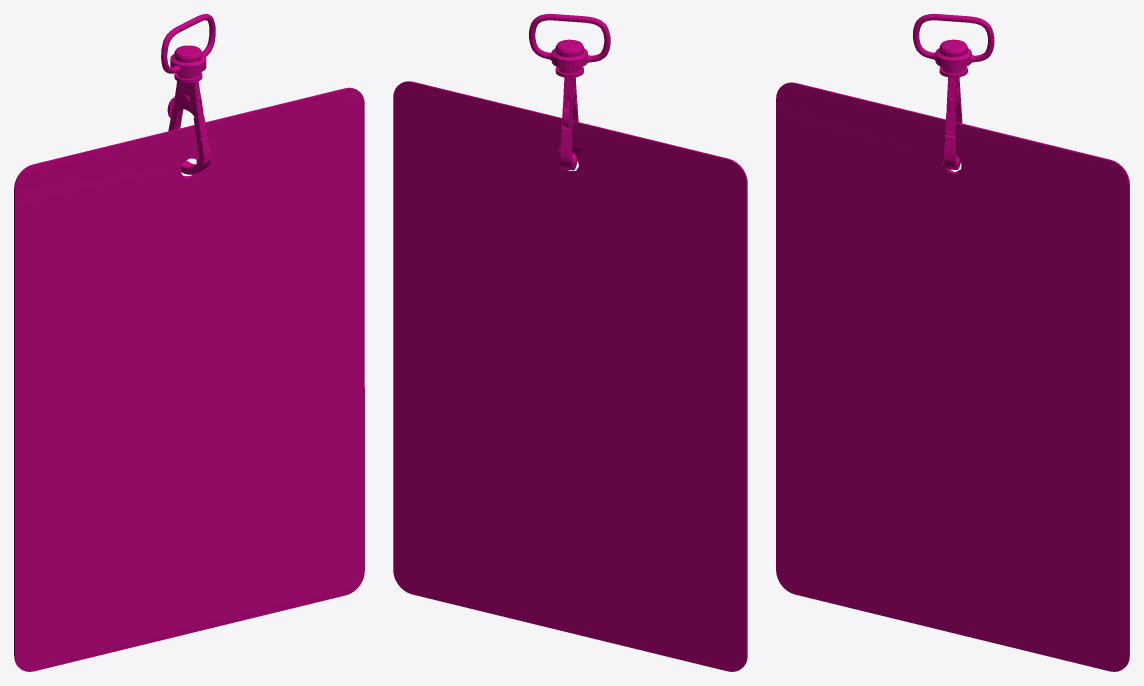
The model's file is eventBadge.glb.
3 views of the same model, side by side, from view 1: azimuth 30°, elevation 25°; view 2: azimuth 150°, elevation 25°; view 3: azimuth 330°, elevation 25° (orthographic).
Parts seen in each view (by area): view 1: Mesh_Mesh_head_geo.001_lambert2SG.001; view 2: Mesh_Mesh_head_geo.001_lambert2SG.001; view 3: Mesh_Mesh_head_geo.001_lambert2SG.001.
Boxes of the visible parts, left/top/right/bottom form: Mesh_Mesh_head_geo.001_lambert2SG.001: left=14, top=14, right=364, bottom=671; Mesh_Mesh_head_geo.001_lambert2SG.001: left=393, top=14, right=747, bottom=671; Mesh_Mesh_head_geo.001_lambert2SG.001: left=776, top=14, right=1129, bottom=671.
Size of the model in its own units: 18.29 by 30.53 by 2.29.
